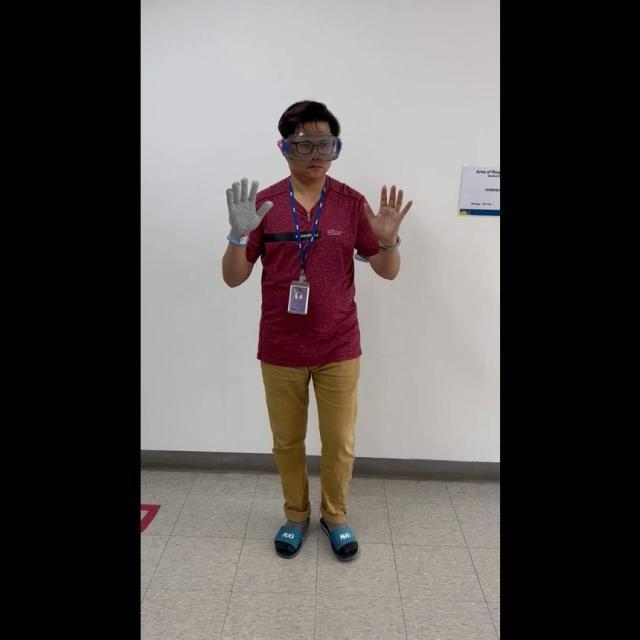bare_hand: (362, 179, 412, 243)
gloved_hand: (222, 173, 272, 246)
